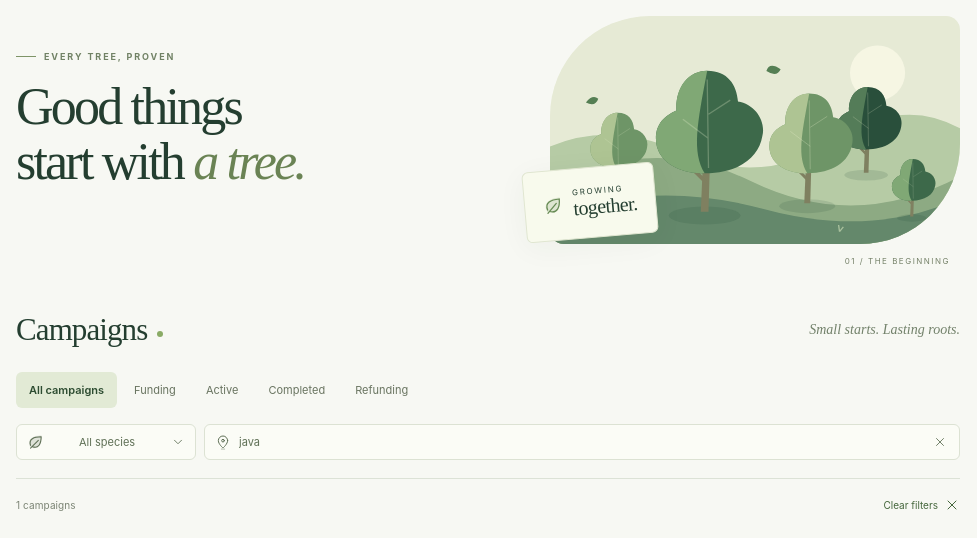
Scenario: S03 campaigns page, filters › FR-032: a status tab writes the URL and "Clear filters" empties it, region text included
Click the button "Completed" at (297, 390), box [255, 372, 338, 408]
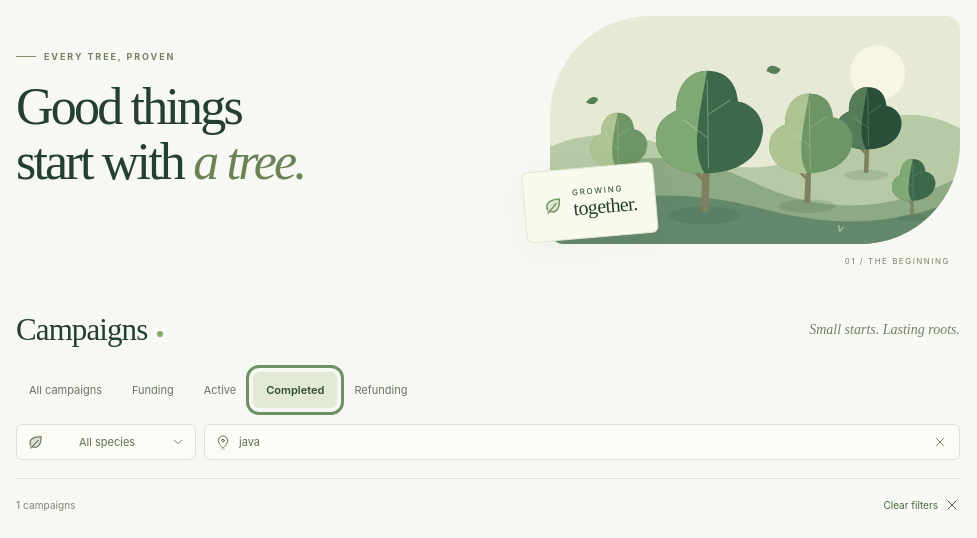
Click the button "Clear filters" at (922, 505), box [883, 489, 960, 521]
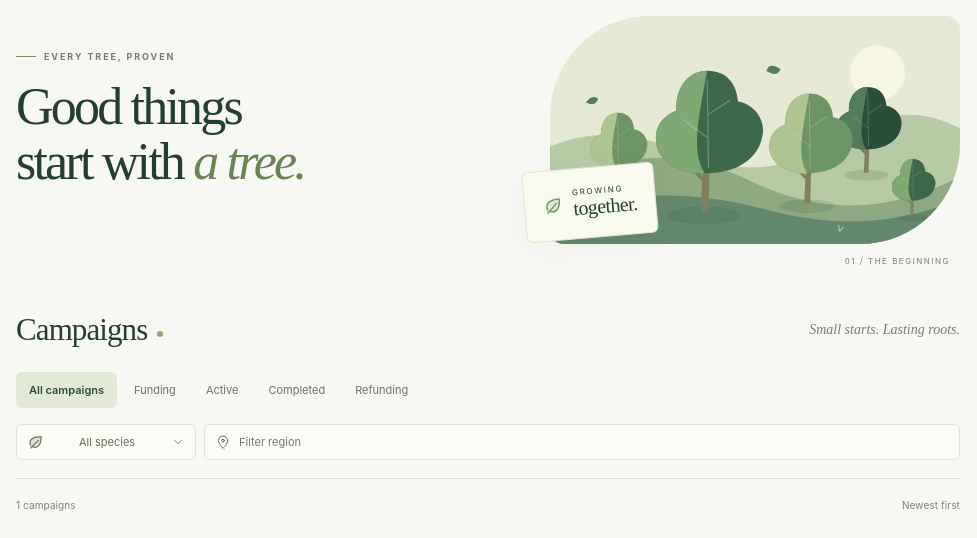
expect the field named "Filter by region" is empty: met, box [239, 426, 949, 458]
expect the text "Newest first" is shown: met, box [902, 499, 960, 511]
